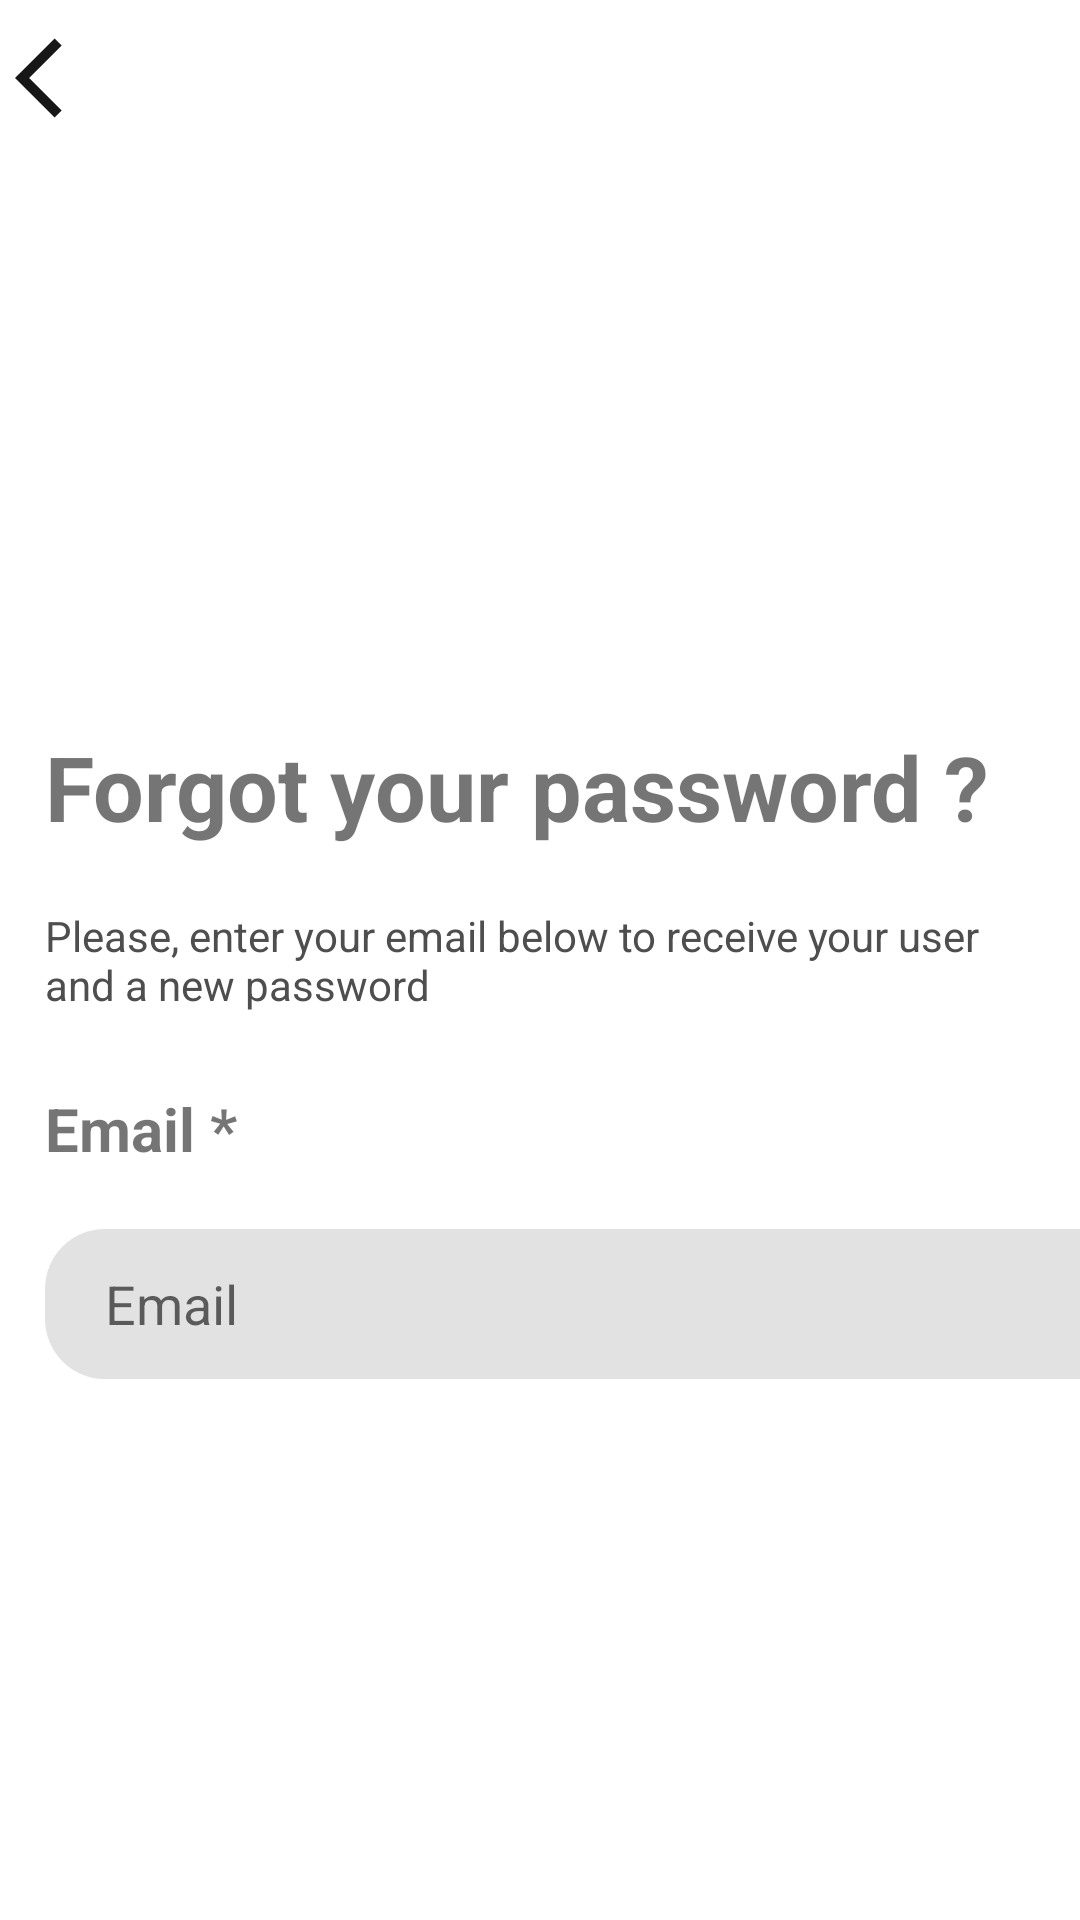

Locate icon controls on the screen. Image size 1080px x 1920px, boxes as (x1, y1, x2, y2).
back: (15, 38, 62, 118)
